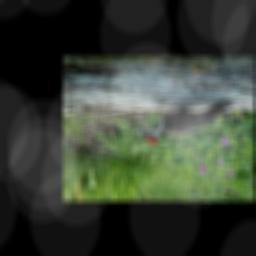Woodpecker: (133, 100, 238, 145)
